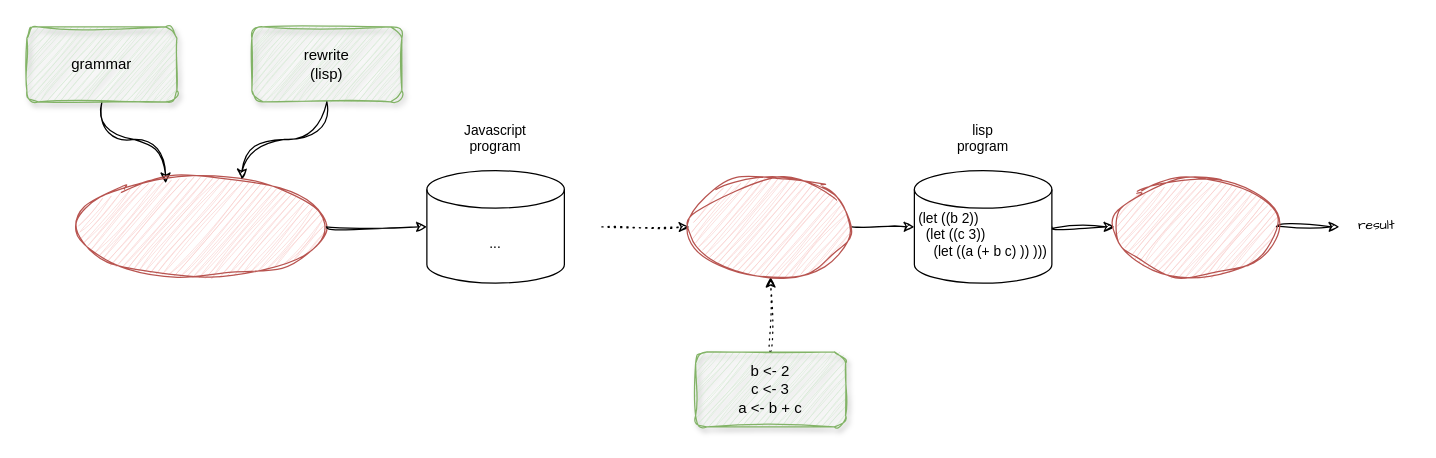
Some shapes in this 1436 by 458 pixel diagram are drawn without their labels. The centre of each missing label's shape, as x and y in pixels:
"lisp" belongs at (1195,226).
"node.js" belongs at (770,226).
"t2t" belongs at (201,226).
